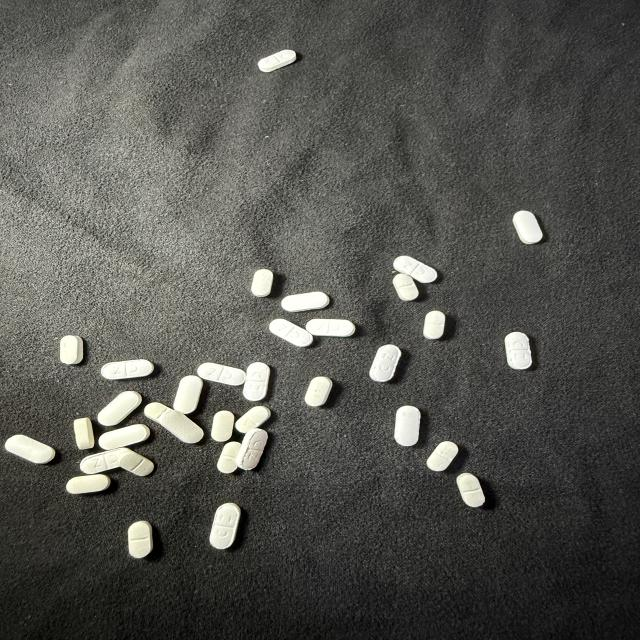pill: (145, 403, 204, 443), (97, 391, 141, 426), (5, 435, 55, 463), (210, 503, 240, 549), (80, 448, 132, 474), (99, 424, 150, 449), (236, 429, 267, 470), (269, 319, 313, 347), (394, 256, 437, 283), (370, 345, 401, 382), (174, 375, 203, 413), (197, 363, 245, 385), (243, 363, 270, 401), (101, 360, 154, 379), (395, 406, 420, 446), (505, 332, 532, 369), (305, 318, 356, 337), (513, 211, 542, 244), (282, 292, 329, 312), (128, 521, 153, 558), (236, 406, 270, 433), (457, 473, 484, 507), (427, 442, 458, 471), (67, 474, 110, 494), (120, 451, 154, 476), (258, 50, 296, 72), (217, 441, 241, 474), (305, 377, 332, 406), (212, 410, 234, 441), (393, 273, 418, 300), (60, 336, 83, 364), (74, 418, 94, 449), (251, 269, 273, 297), (424, 311, 445, 339)
